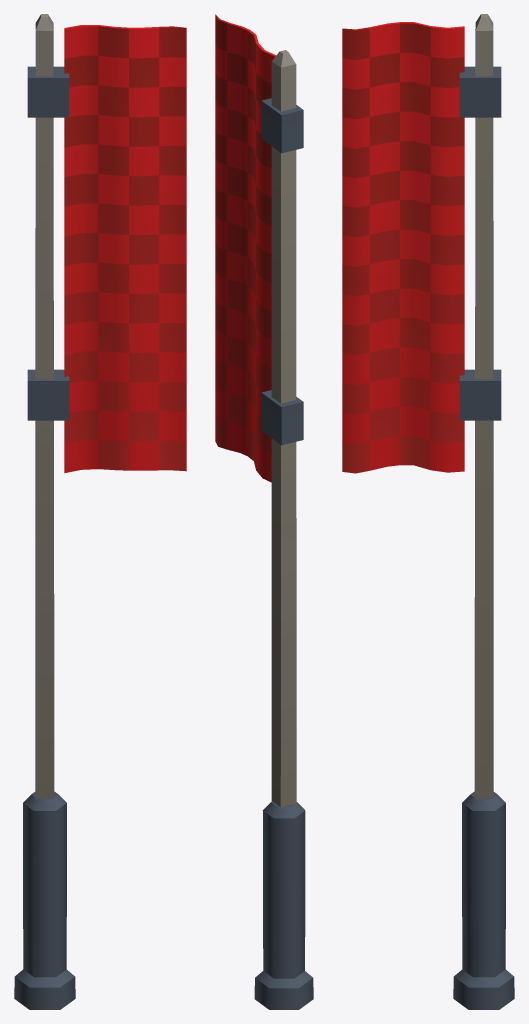
File: FlagRace_A.fbx
3 views of the same model, side by side, from view 1: azimuth 90°, elevation 25°; view 2: azimuth 210°, elevation 25°; view 3: azimuth 270°, elevation 25° (orthographic). The views are drawn at different scales.
Parts seen in each view (by area): view 1: FlagRace_A; view 2: FlagRace_A; view 3: FlagRace_A.
Boxes of the visible parts, bbox=[...] form: FlagRace_A: bbox=[14, 14, 186, 1009]; FlagRace_A: bbox=[215, 14, 313, 1009]; FlagRace_A: bbox=[342, 14, 514, 1009].
Size of the model in its own units: 62.3 by 1269 by 202.
